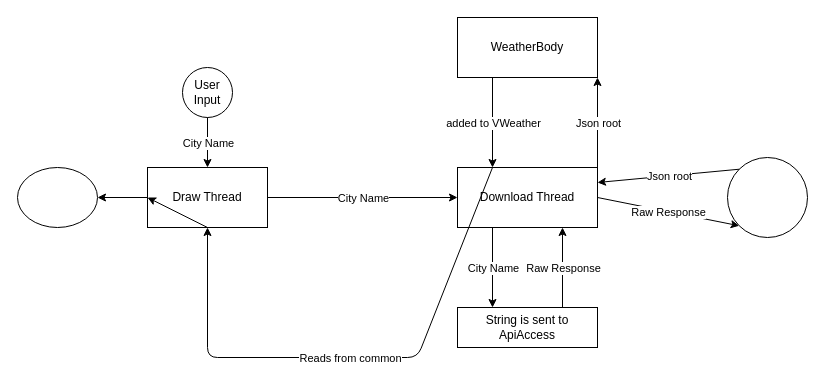
This 825x383 diagram has some shape labels left out. The centre of each missing label's shape, as x and y in pixels:
"Display Data" belongs at [57,197].
"Json root & reader" belongs at [767,197].
